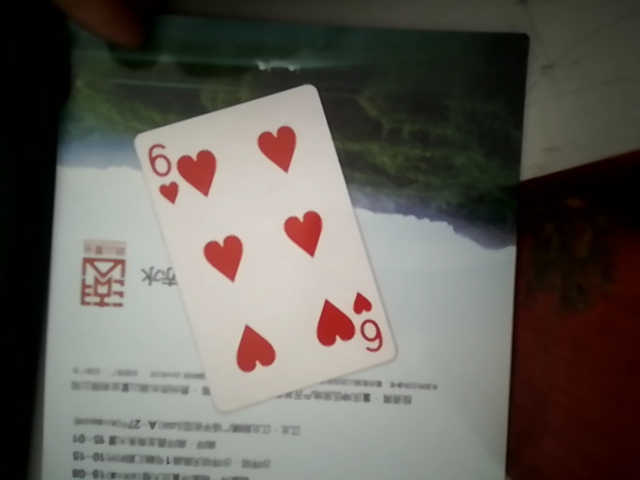hx 6: (120, 73, 405, 414)
